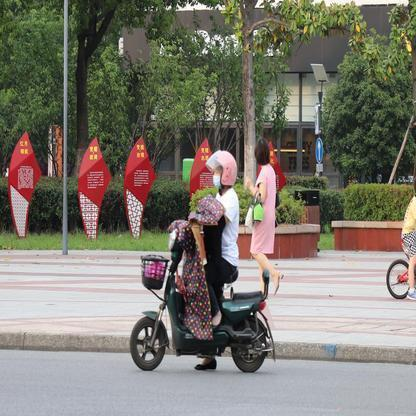target: (124, 147, 282, 379)
